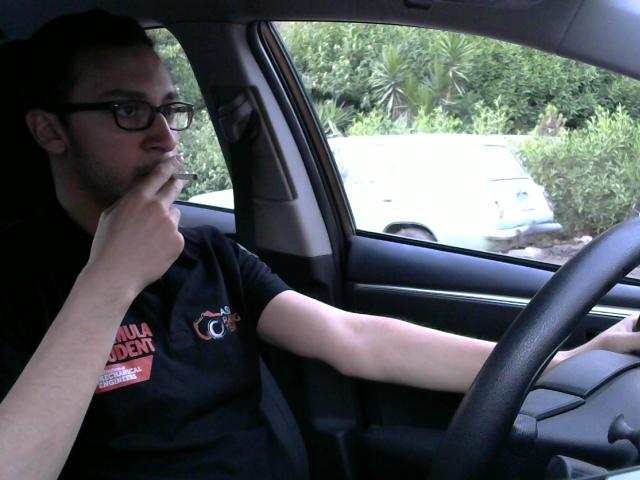Smoking: (155, 163, 203, 188)
